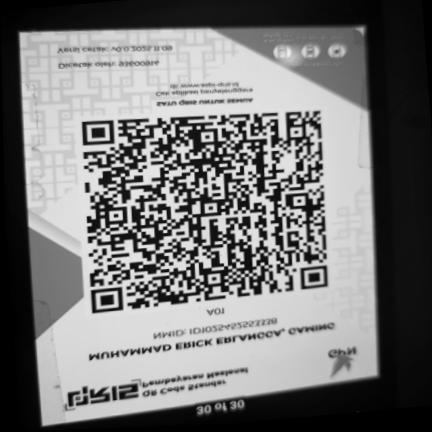Cara Pakai QRIS: (252, 29, 364, 71)
Cek Aplikasi Penyelenggara: (145, 79, 258, 98)
Dicetak Oleh: (53, 57, 170, 73)
Logo GPN: (322, 339, 365, 381)
Logo dan deskripsi QRIS: (52, 357, 254, 420)
Nama Merchant: (86, 318, 338, 364)
National Merchant ID: (147, 314, 287, 342)
QR Code: (76, 108, 335, 319)
Slogan: (146, 96, 259, 109)
Terminal ID: (202, 304, 232, 318)
Versi Cetak: (52, 42, 185, 58)
